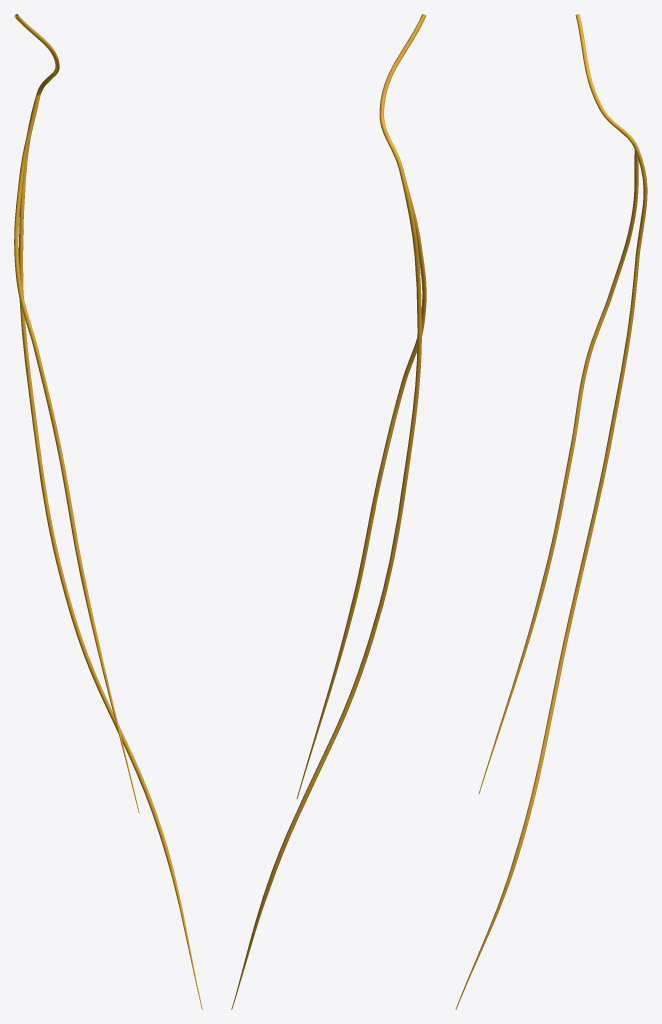
The model's file is nervoso-deep-branch-of-radial-nerve-l.glb.
The picture shows the model from 3 angles, left to right: view 1: azimuth 30°, elevation 25°; view 2: azimuth 210°, elevation 25°; view 3: azimuth 270°, elevation 25°; orthographic projection. The views are drawn at different scales.
Visible parts, largest first — view 1: Deep branch of radial nerve.l, Posterior interosseous nerve of forearm.l; view 2: Deep branch of radial nerve.l, Posterior interosseous nerve of forearm.l; view 3: Deep branch of radial nerve.l, Posterior interosseous nerve of forearm.l.
Boxes of the visible parts, left/top/right/bottom form: Deep branch of radial nerve.l: left=14, top=14, right=202, bottom=1009; Posterior interosseous nerve of forearm.l: left=14, top=94, right=139, bottom=813; Deep branch of radial nerve.l: left=231, top=14, right=426, bottom=1009; Posterior interosseous nerve of forearm.l: left=296, top=174, right=426, bottom=798; Deep branch of radial nerve.l: left=455, top=14, right=647, bottom=1009; Posterior interosseous nerve of forearm.l: left=478, top=150, right=638, bottom=793.
Size of the model in its own units: 0.0328 by 0.2466 by 0.0457.
